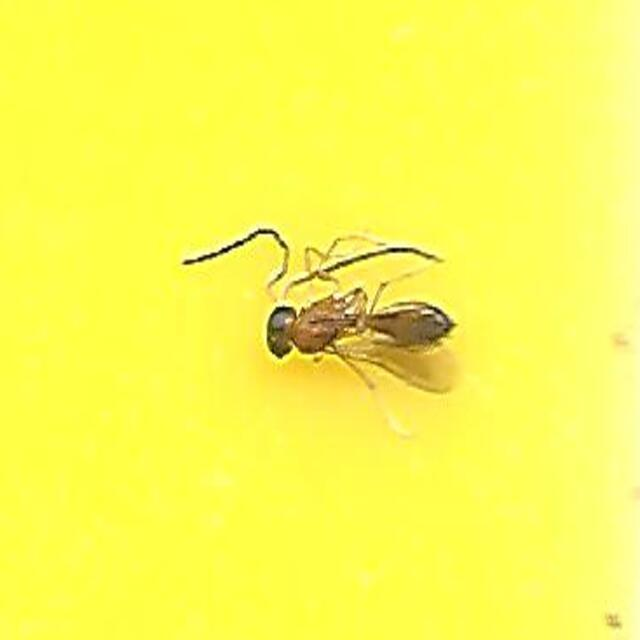Hymenoptera: (174, 236, 466, 404)
